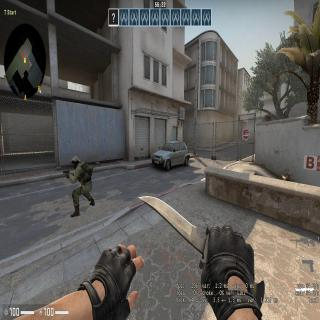CT-Body: (66, 154, 94, 205)
CT-Head: (72, 156, 80, 168)
